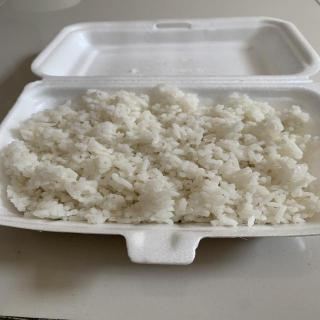Nasi: (10, 95, 320, 225)
